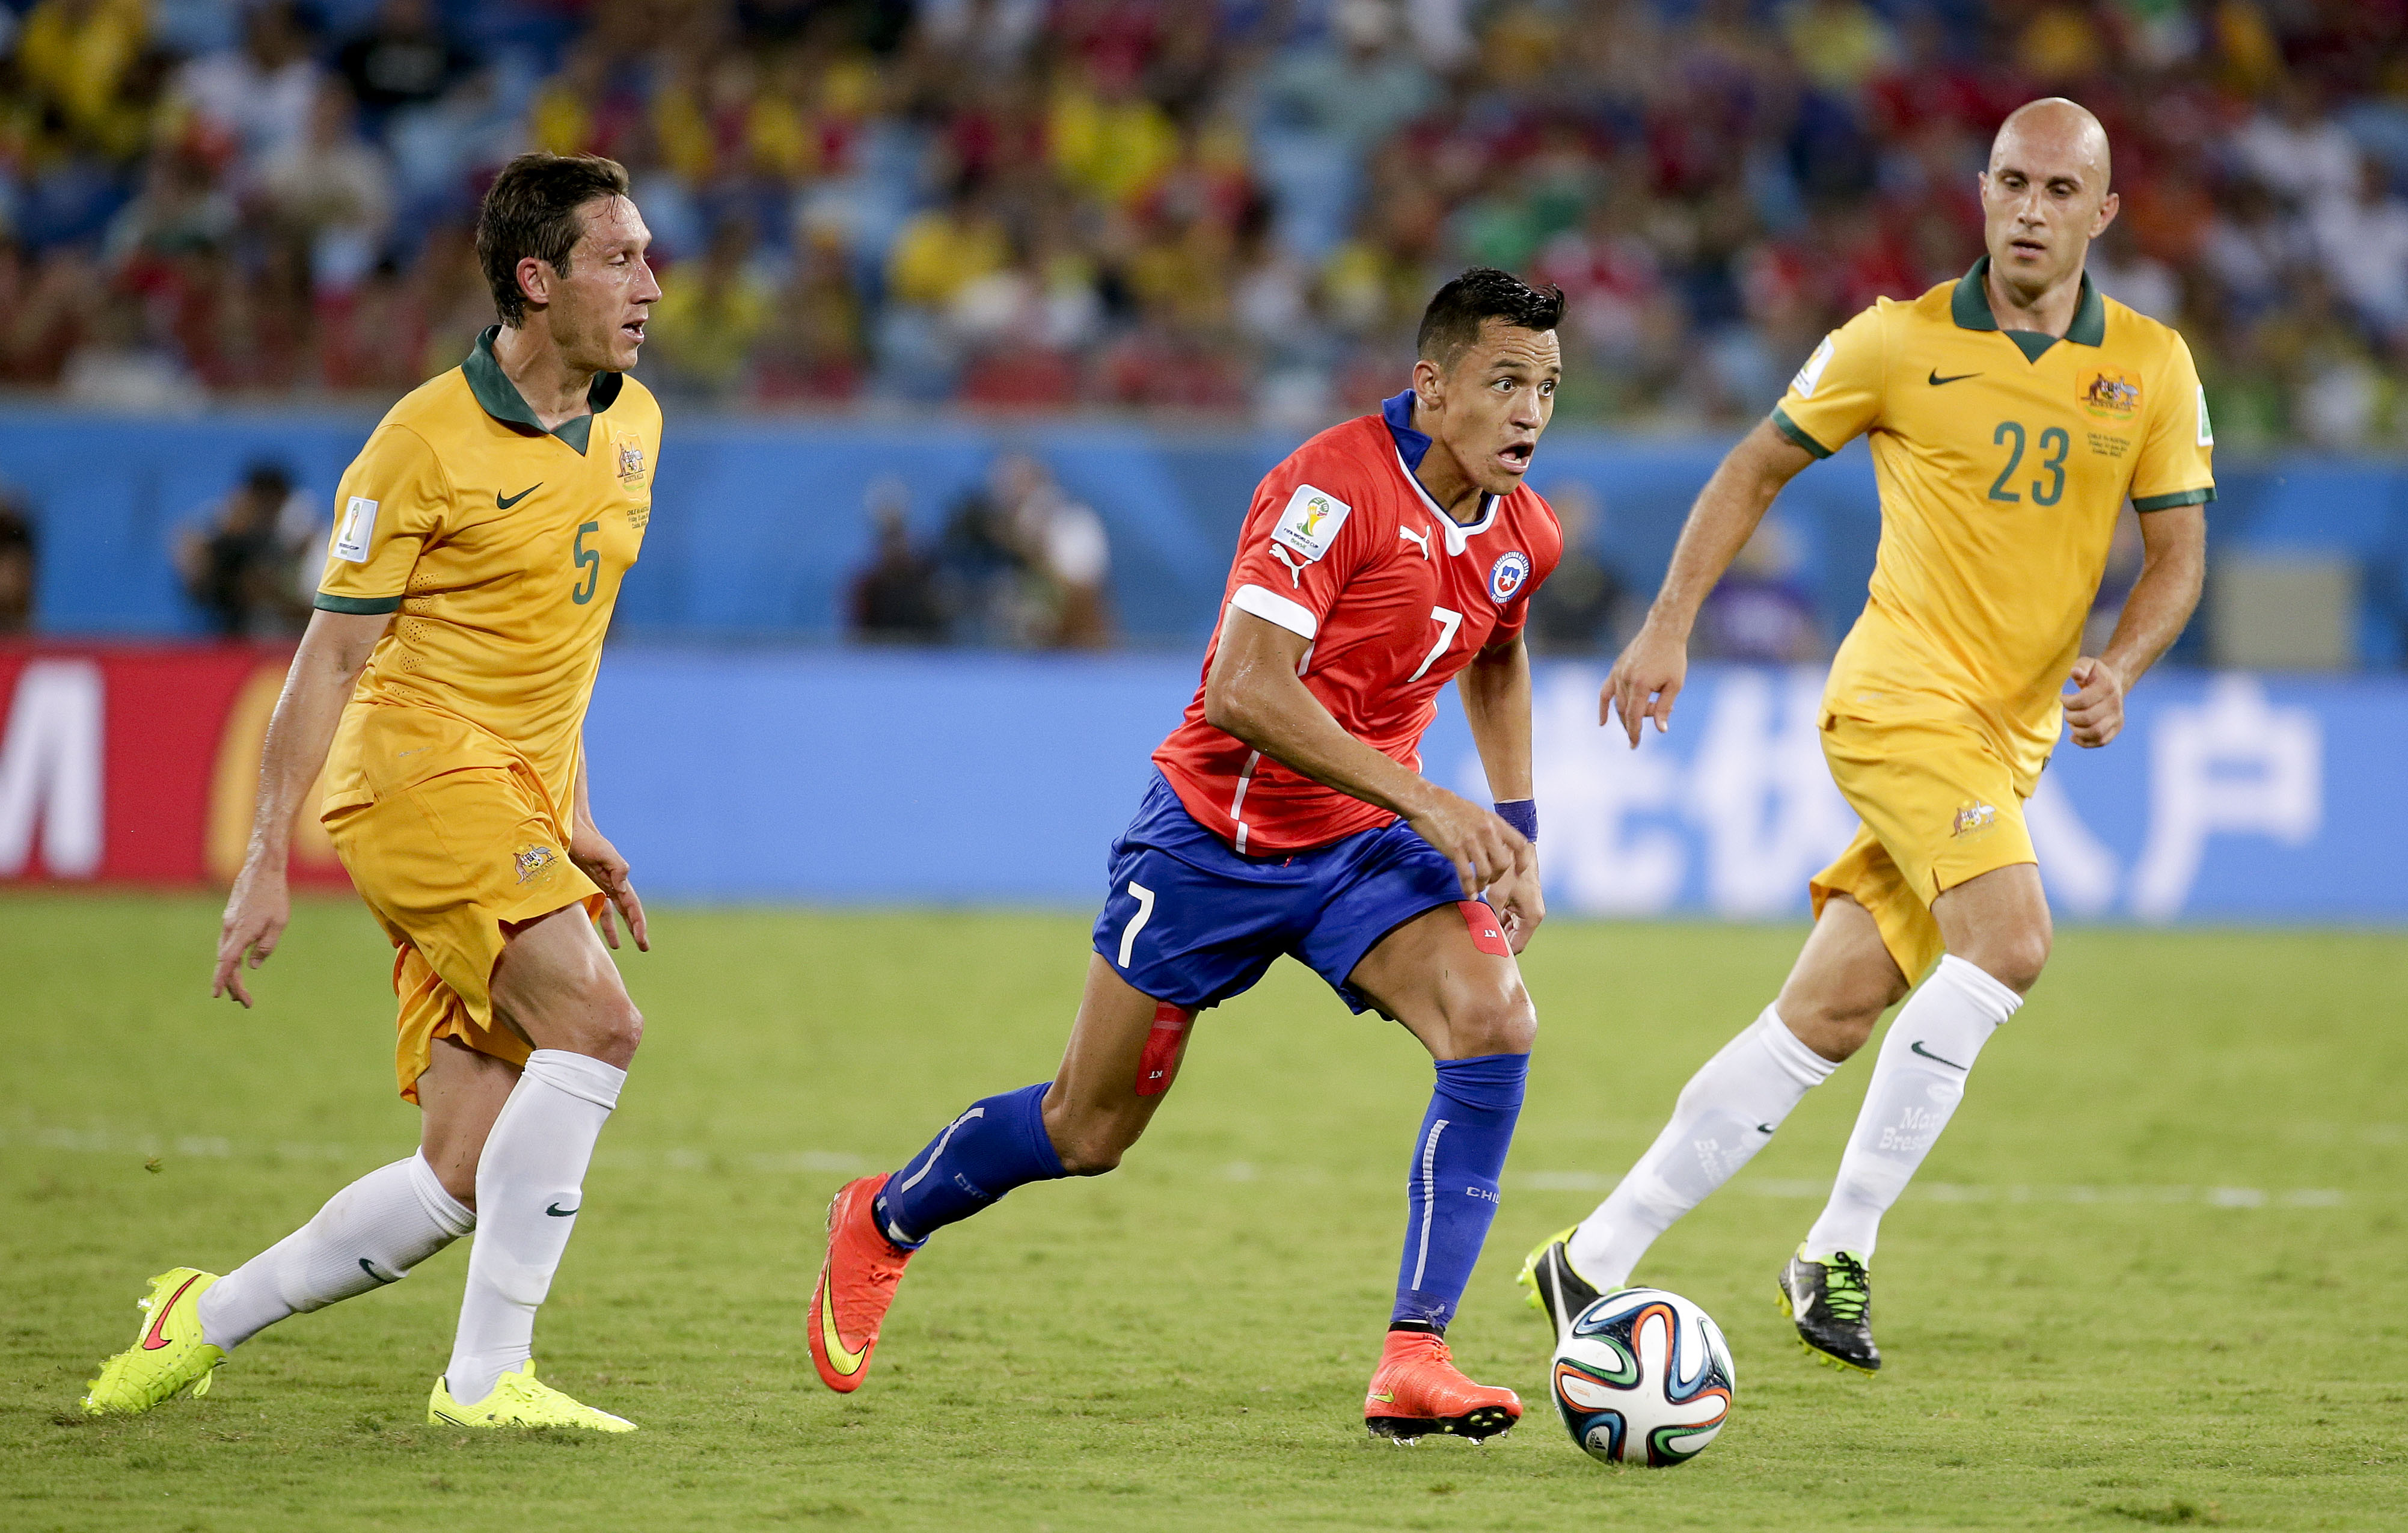football: (1548, 1289, 1745, 1470)
